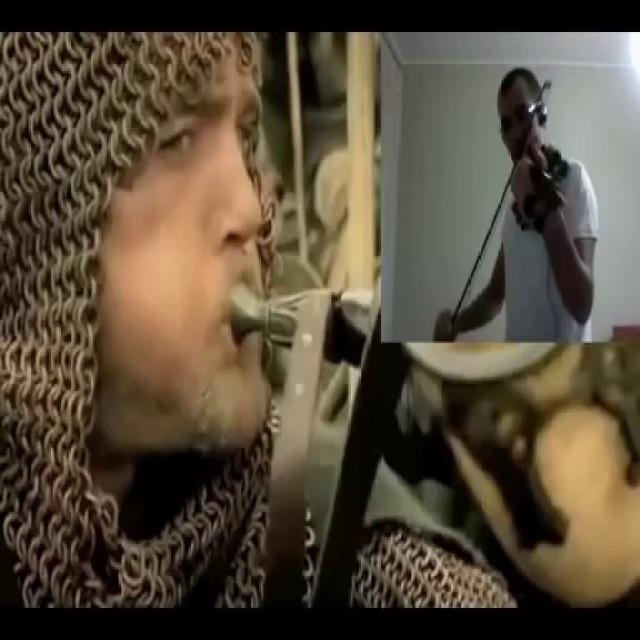Violin: (506, 146, 573, 235)
